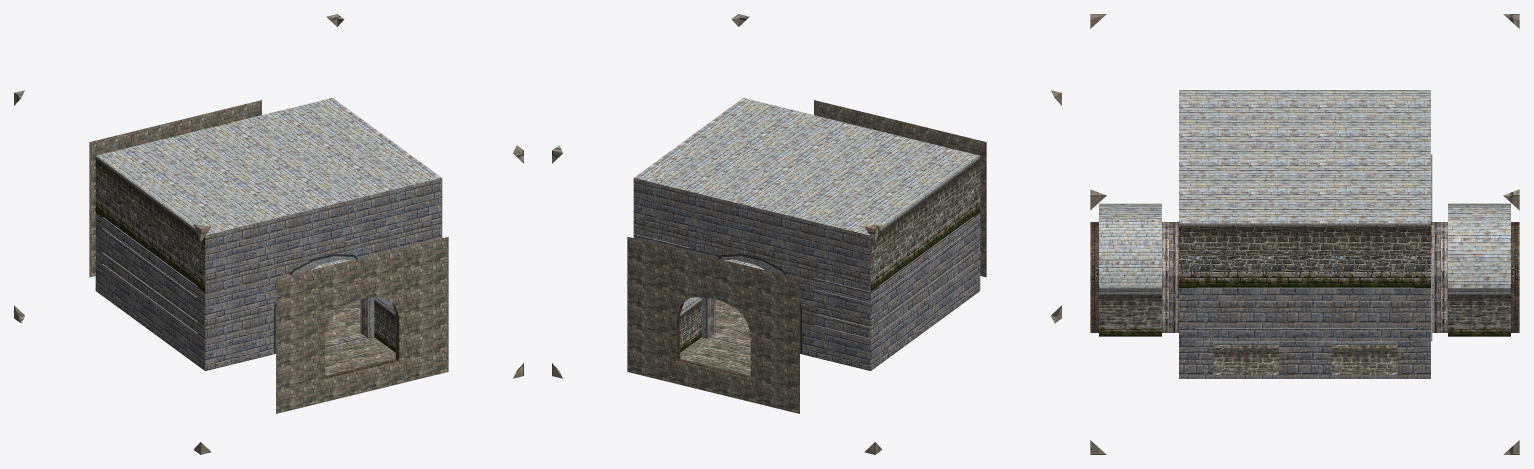
File: lbg_2b.glb
3 views of the same model, side by side, from view 1: azimuth 30°, elevation 25°; view 2: azimuth 150°, elevation 25°; view 3: azimuth 270°, elevation 25° (orthographic). The views are drawn at different scales.
Visible parts, largest first — view 1: lbg_2b-col; view 2: lbg_2b-col; view 3: lbg_2b-col.
Part boxes in pixels (x1,y1,x2,y2): lbg_2b-col: [14, 14, 523, 454]; lbg_2b-col: [552, 14, 1061, 454]; lbg_2b-col: [1090, 14, 1519, 454].
Size of the model in its own units: 15 by 10 by 15.
Materials: 8 (8 with a texture image).
